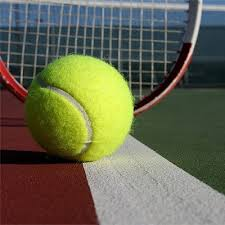tennis_ball: (24, 53, 134, 162)
